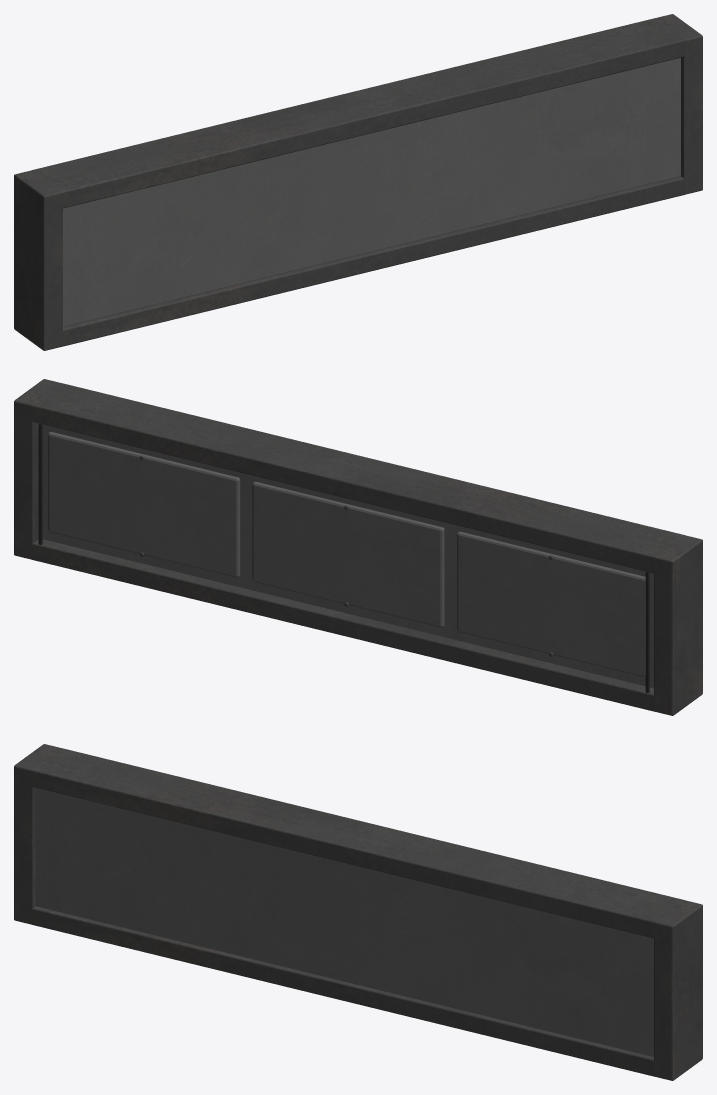
Rendered from SM_GarageConcrete_UpperPanel.fbx.
3 renders of one model, top to bottom at view 1: azimuth 30°, elevation 25°; view 2: azimuth 150°, elevation 25°; view 3: azimuth 330°, elevation 25°, orthographic.
Visible parts, largest first — view 1: SM_GarageConcrete_UpperPanel; view 2: SM_GarageConcrete_UpperPanel; view 3: SM_GarageConcrete_UpperPanel.
Boxes of the visible parts, x1,y1,x2,y2 form: SM_GarageConcrete_UpperPanel: (14, 14, 702, 350); SM_GarageConcrete_UpperPanel: (14, 379, 702, 715); SM_GarageConcrete_UpperPanel: (14, 744, 702, 1080).
Size of the model in its own units: 200 by 16 by 45.
